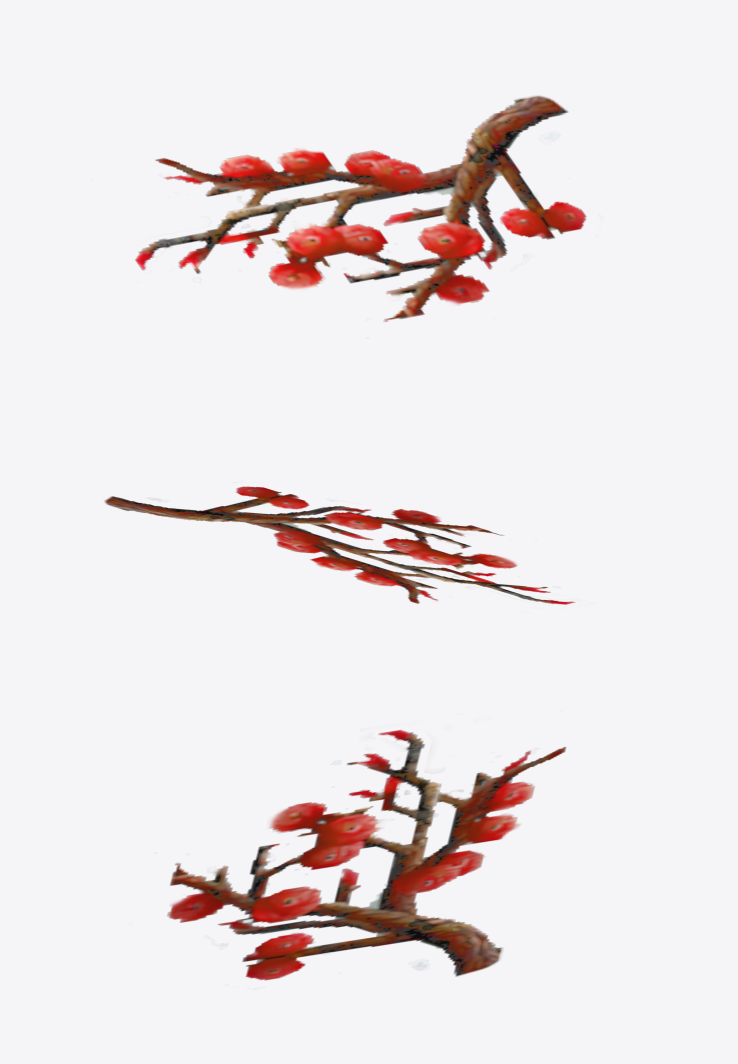
Rendered from H1_RPl_Cherry6.gltf.
3 renders of one model, top to bottom at view 1: azimuth 30°, elevation 25°; view 2: azimuth 150°, elevation 25°; view 3: azimuth 270°, elevation 25°, orthographic. The views are drawn at different scales.
Parts seen in each view (by area): view 1: H1_RPl_Cherry6; view 2: H1_RPl_Cherry6; view 3: H1_RPl_Cherry6.
Boxes of the visible parts, box(x1,y1,x2,y2) form: H1_RPl_Cherry6: box(134, 95, 586, 338); H1_RPl_Cherry6: box(104, 486, 594, 604); H1_RPl_Cherry6: box(155, 728, 566, 980).
Size of the model in its own units: 1.04 by 0.2039 by 1.02.
1 material, 1 textured.
